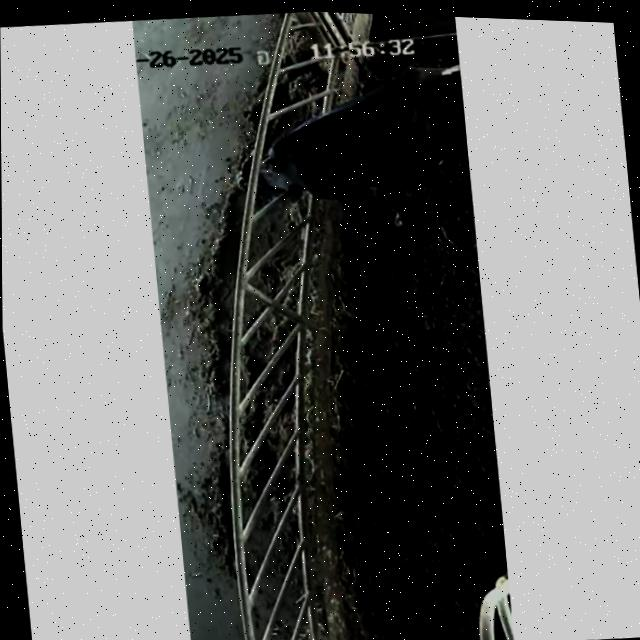eat: (208, 105, 386, 222)
